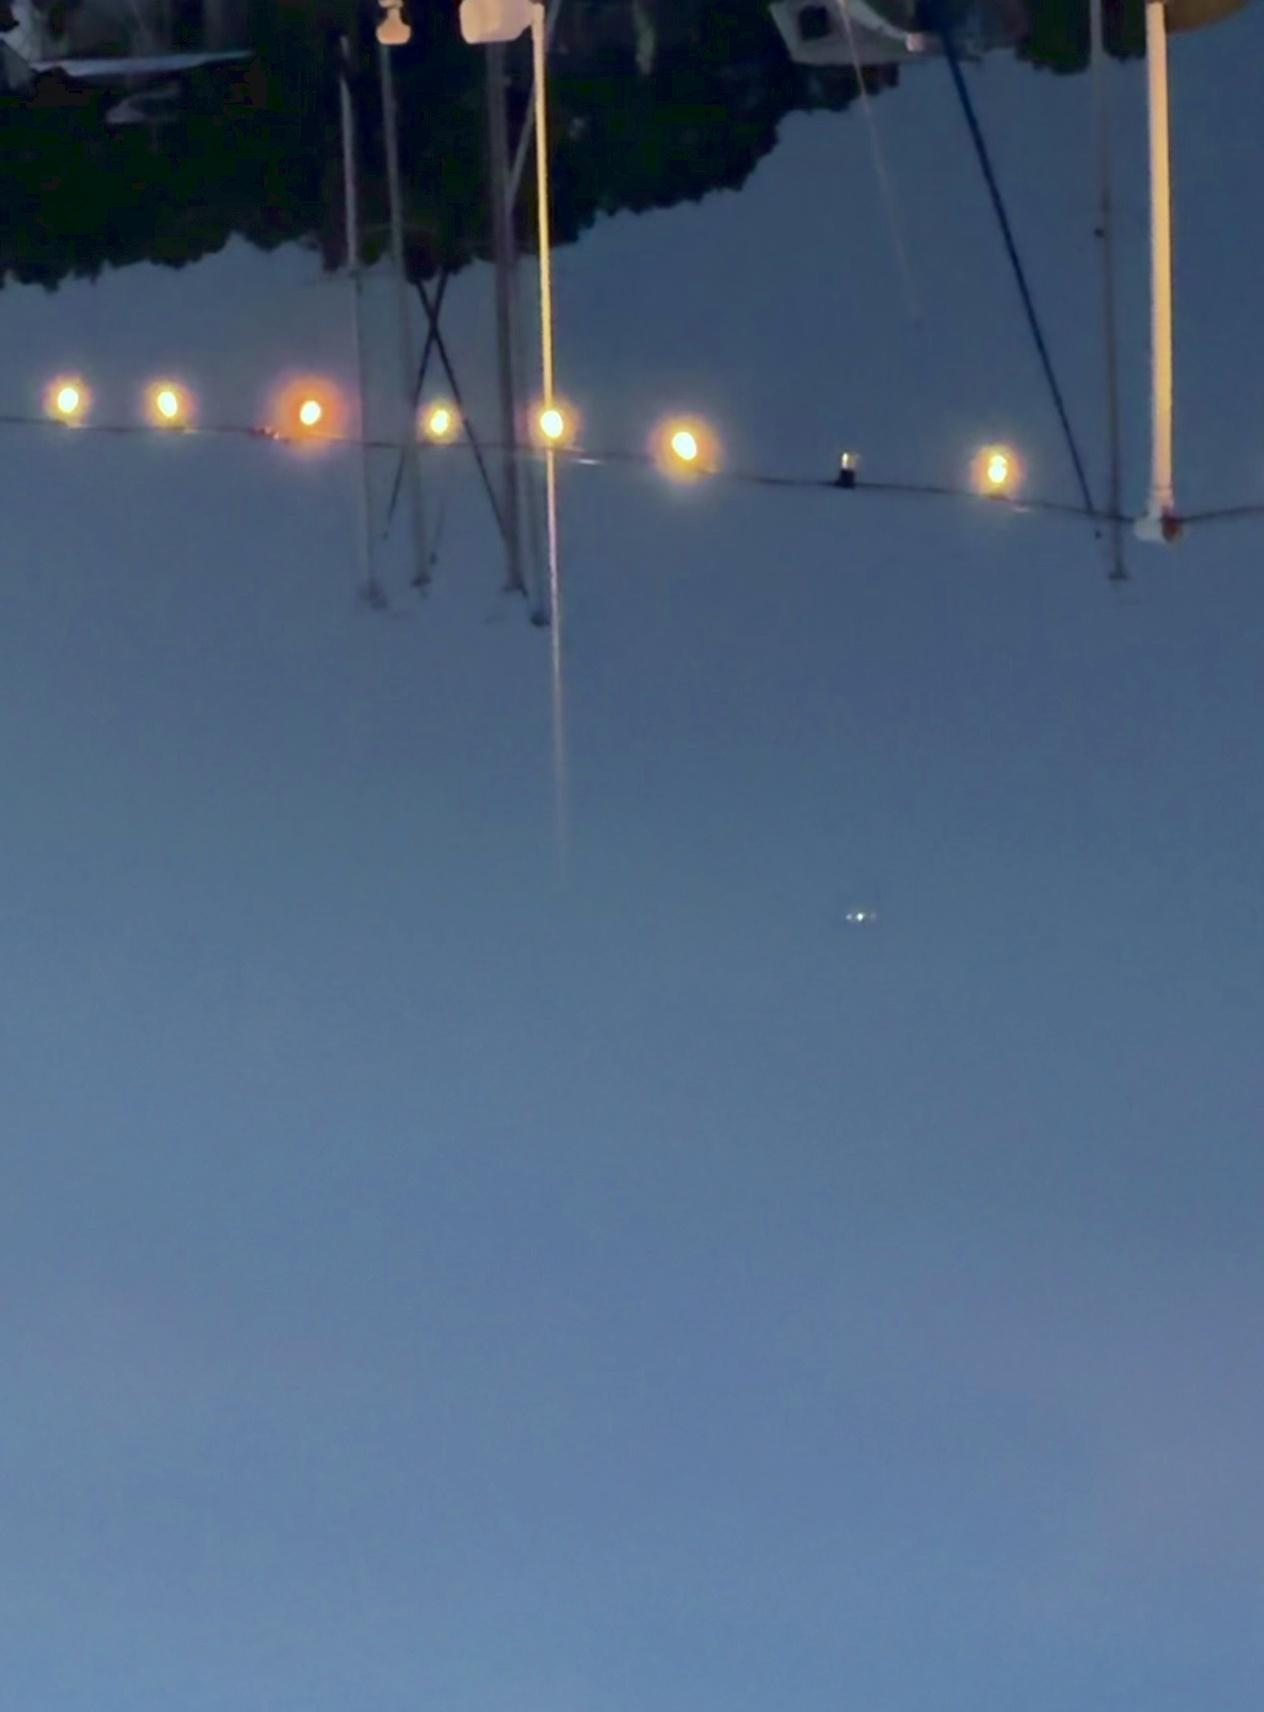Plane: (827, 883, 906, 944)
